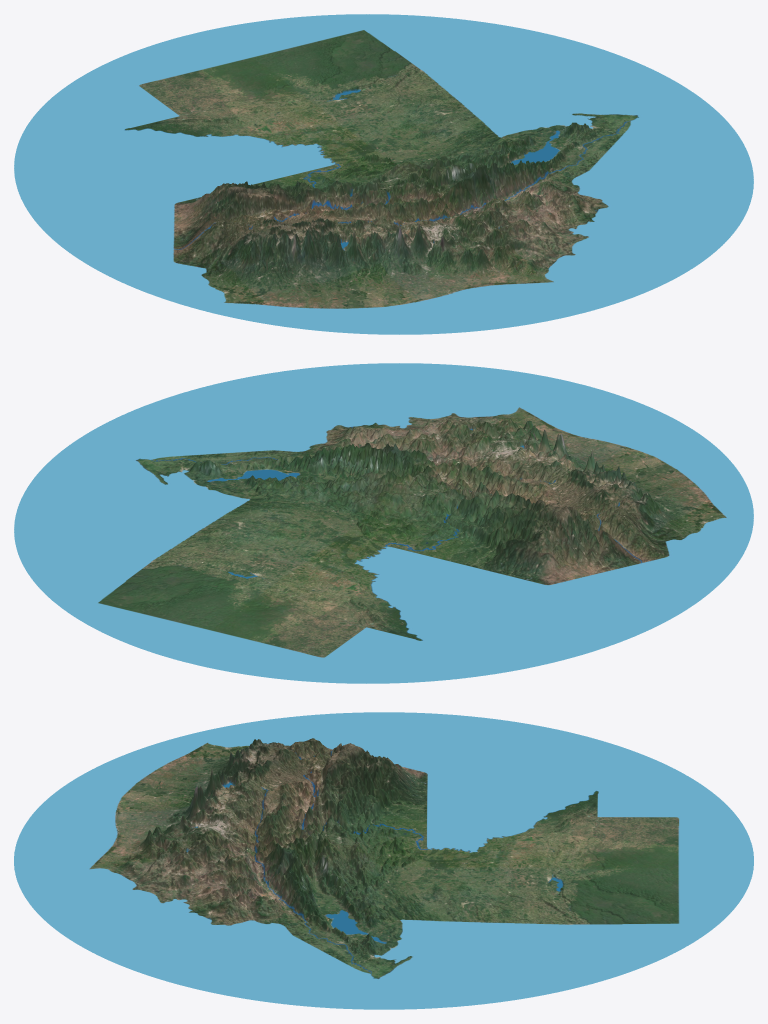
The model's file is GTM-previa-terrain.glb.
The picture shows the model from 3 angles, top to bottom: view 1: azimuth 30°, elevation 25°; view 2: azimuth 150°, elevation 25°; view 3: azimuth 270°, elevation 25°; orthographic projection. The views are drawn at different scales.
Visible parts, largest first — view 1: Guatemala; view 2: Guatemala; view 3: Guatemala.
Boxes of the visible parts, box(x1,y1,x2,y2) form: Guatemala: box(14, 14, 753, 334); Guatemala: box(14, 363, 753, 683); Guatemala: box(14, 712, 753, 1009).
Bounding box in the file's own units: 2.1 × 0.1303 × 2.21.
1 material, 1 textured.
